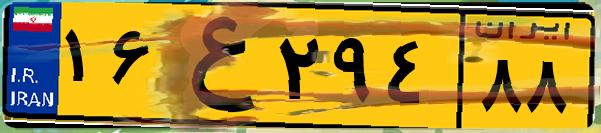1: (57, 26, 110, 100)
2: (270, 28, 330, 110)
4: (385, 28, 445, 110)
6: (110, 28, 158, 98)
8: (475, 38, 525, 113), (525, 38, 570, 115)
9: (330, 28, 385, 110)
ع: (158, 12, 270, 120)
